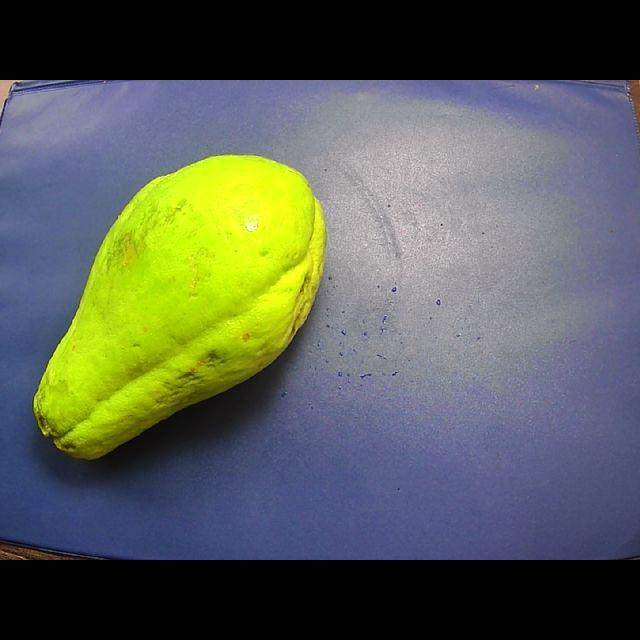chayote: (35, 156, 326, 458)
